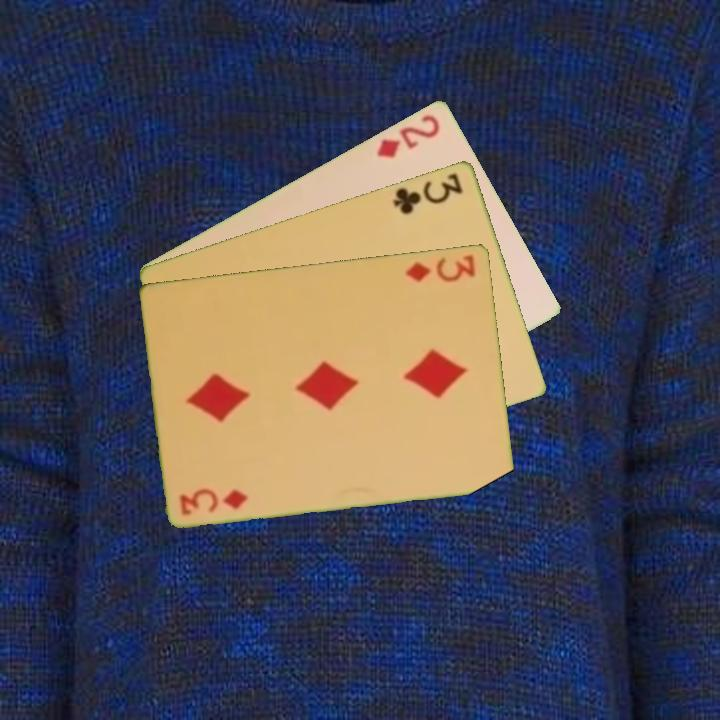2d: (373, 110, 443, 161)
3c: (390, 169, 466, 217)
3d: (403, 250, 479, 285), (176, 485, 251, 518)
